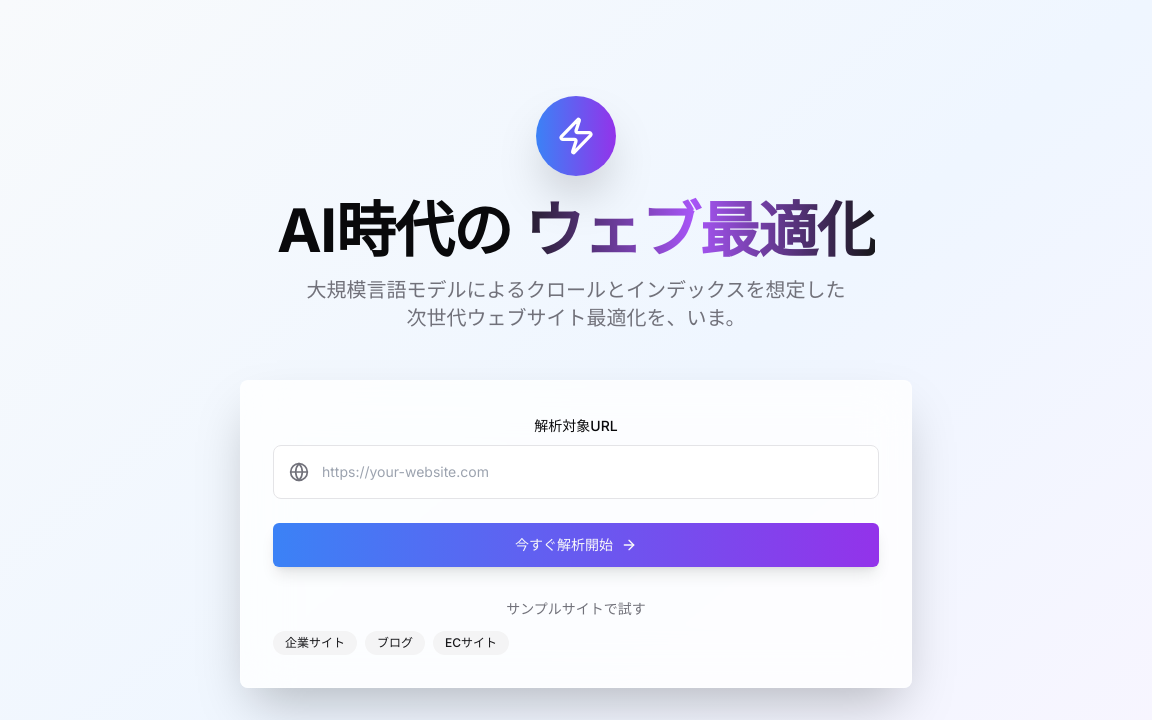
Test case: UrlInput Component › Cache functionality › should show cache info when URL is cached
The width and height of the screenshot is (1152, 720).
Step 1. Type "https://example.com" into the field → (576, 472), box [273, 445, 879, 499]
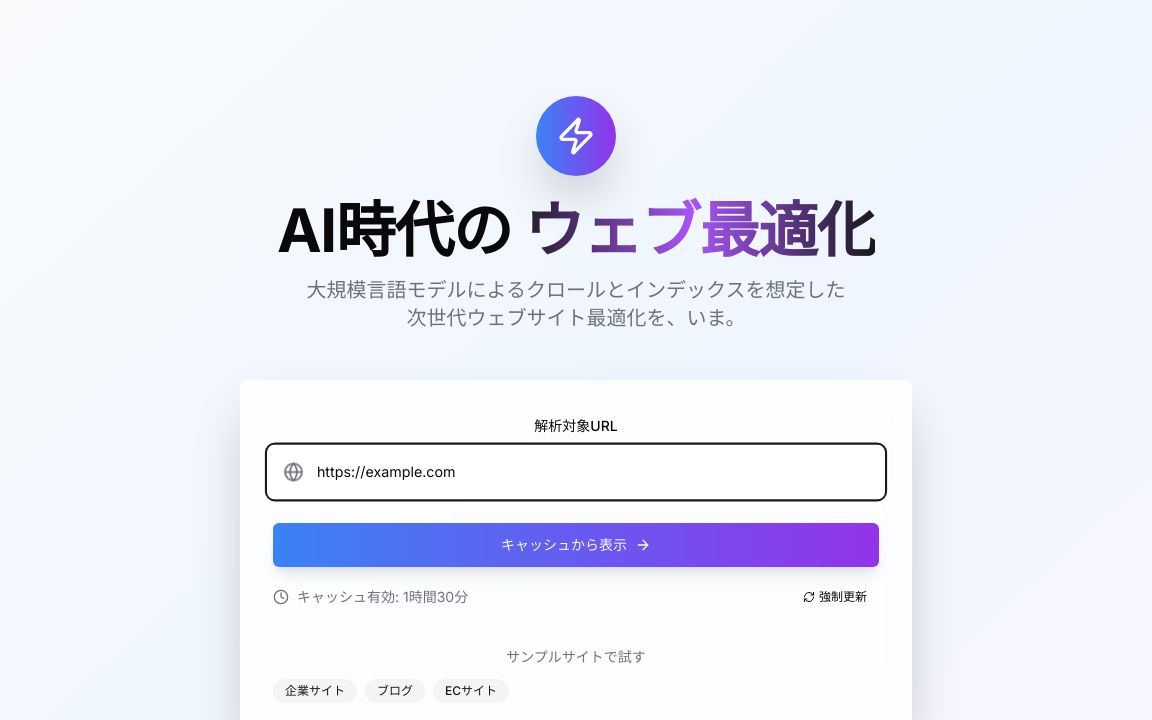
Result: the button "キャッシュから表示" is shown at [273, 523, 879, 567]
Result: the text "キャッシュ有効: 1時間30分" is shown at [297, 587, 468, 607]
Result: the button "強制更新" is shown at [791, 579, 879, 615]
